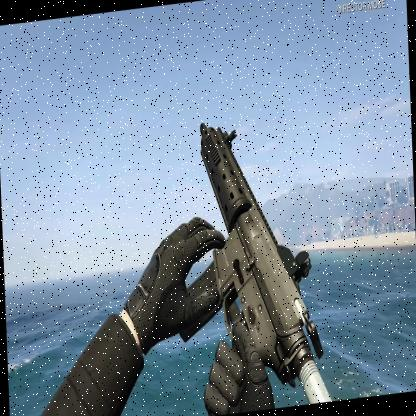rifle: (176, 90, 343, 416)
